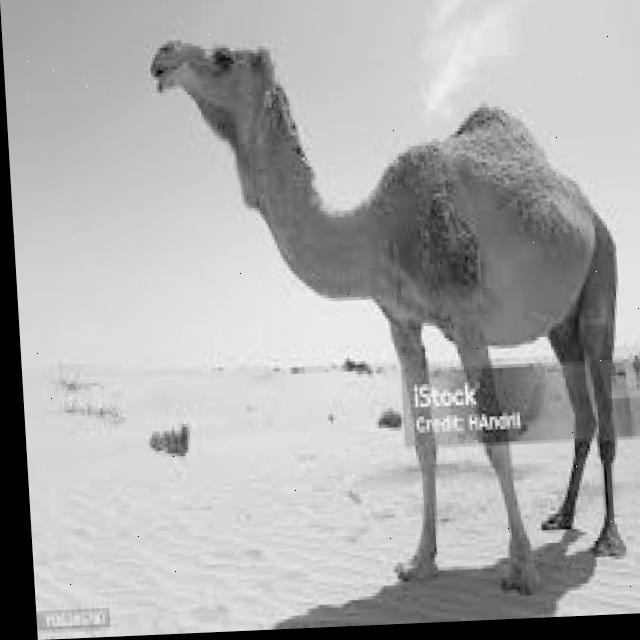Camel: (146, 15, 636, 608)
